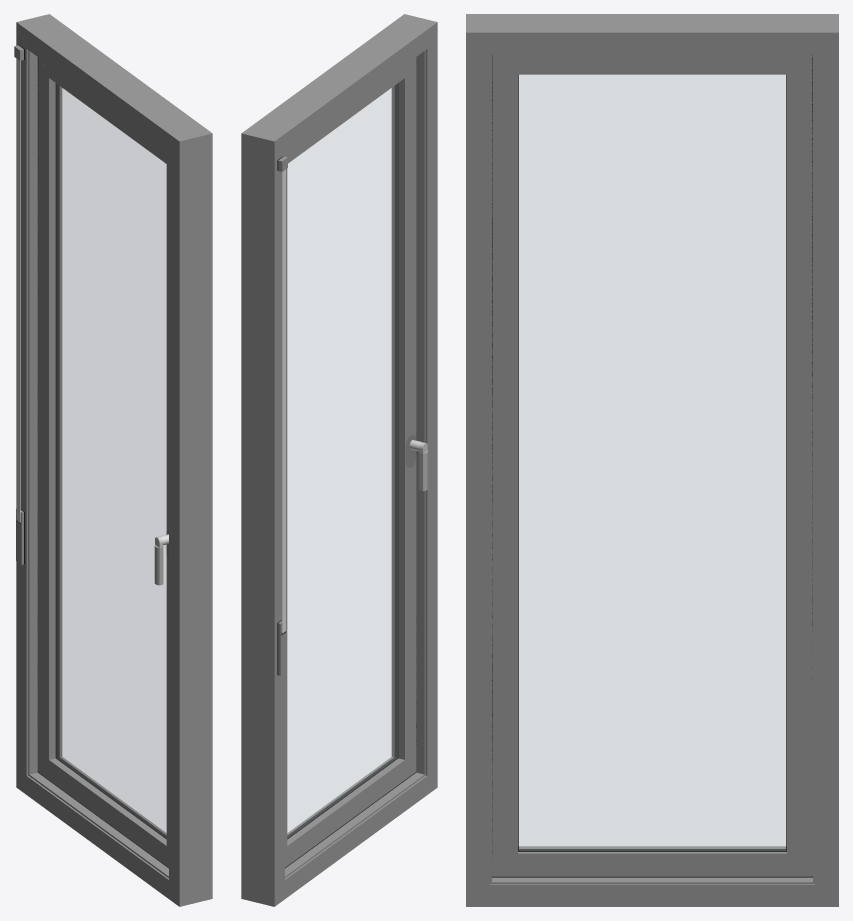
File: EE-PBA-01_1_COJJ.gltf
3 views of the same model, side by side, from view 1: azimuth 30°, elevation 25°; view 2: azimuth 150°, elevation 25°; view 3: azimuth 270°, elevation 25° (orthographic). The views are drawn at different scales.
Visible parts, largest first — view 1: Mesh13_Agrupar_11_Model002, Mesh13_Agrupar_11_Model001, Mesh13_Agrupar_11_Model004, Mesh13_Agrupar_11_Model007, Mesh13_Agrupar_11_Model006, Mesh13_Agrupar_11_Model005; view 2: Mesh13_Agrupar_11_Model002, Mesh13_Agrupar_11_Model001, Mesh13_Agrupar_11_Model004, Mesh13_Agrupar_11_Model007, Mesh13_Agrupar_11_Model006, Mesh13_Agrupar_11_Model005; view 3: Mesh13_Agrupar_11_Model002, Mesh13_Agrupar_11_Model001, Mesh13_Agrupar_11_Model004, Mesh13_Agrupar_11_Model007.
Part boxes in pixels (x1=…): Mesh13_Agrupar_11_Model002: x1=56, y1=84, x2=166, y2=837; Mesh13_Agrupar_11_Model001: x1=16, y1=14, x2=212, y2=906; Mesh13_Agrupar_11_Model004: x1=37, y1=57, x2=168, y2=867; Mesh13_Agrupar_11_Model007: x1=16, y1=45, x2=168, y2=868; Mesh13_Agrupar_11_Model006: x1=16, y1=58, x2=20, y2=522; Mesh13_Agrupar_11_Model005: x1=14, y1=45, x2=23, y2=564; Mesh13_Agrupar_11_Model002: x1=287, y1=84, x2=397, y2=837; Mesh13_Agrupar_11_Model001: x1=241, y1=14, x2=437, y2=906; Mesh13_Agrupar_11_Model004: x1=285, y1=57, x2=416, y2=867; Mesh13_Agrupar_11_Model007: x1=277, y1=83, x2=416, y2=868; Mesh13_Agrupar_11_Model006: x1=281, y1=169, x2=285, y2=633; Mesh13_Agrupar_11_Model005: x1=278, y1=156, x2=287, y2=675; Mesh13_Agrupar_11_Model002: x1=519, y1=75, x2=785, y2=850; Mesh13_Agrupar_11_Model001: x1=466, y1=14, x2=838, y2=906; Mesh13_Agrupar_11_Model004: x1=492, y1=55, x2=812, y2=876; Mesh13_Agrupar_11_Model007: x1=492, y1=55, x2=812, y2=877.
Bounding box in the file's own units: 0.2408 × 4.4 × 1.7.
10 materials, 3 textured.
